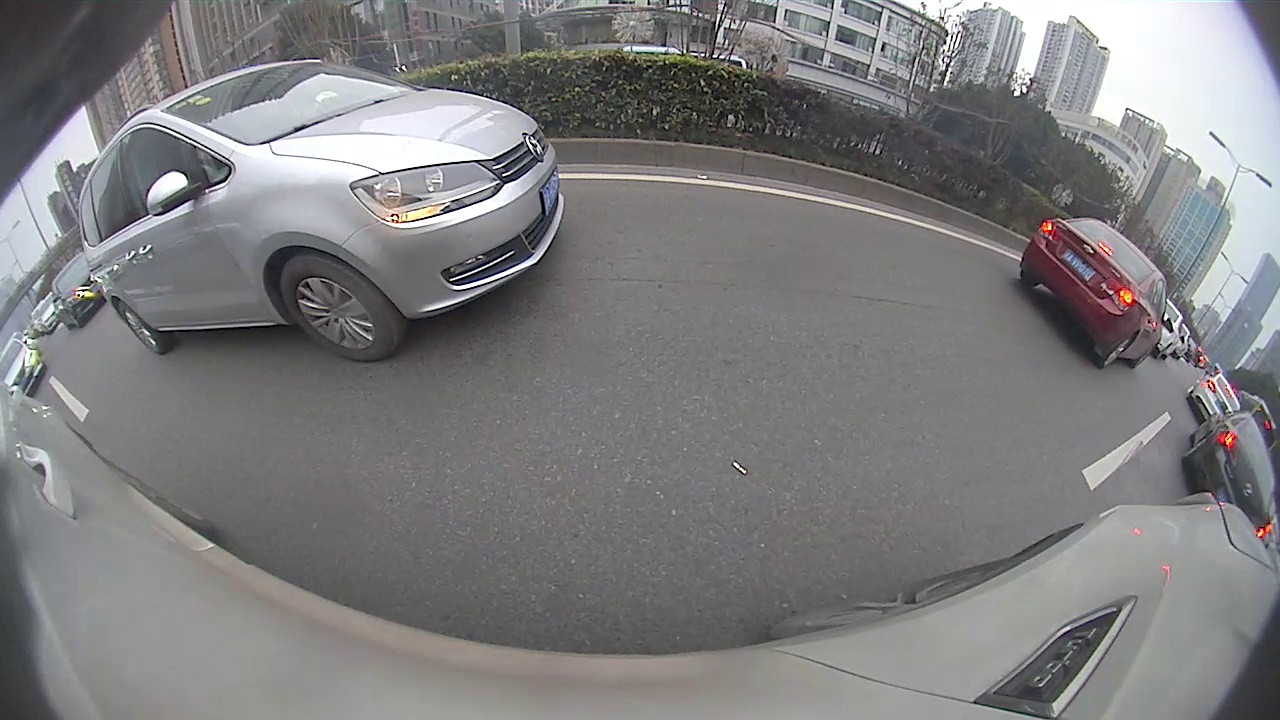car: (75, 58, 568, 364), (1017, 217, 1176, 372), (1178, 397, 1278, 538), (50, 253, 108, 333), (1, 334, 48, 399), (1186, 370, 1240, 421)
front: (281, 256, 400, 364)
rear: (116, 299, 167, 356), (1099, 334, 1137, 369)
